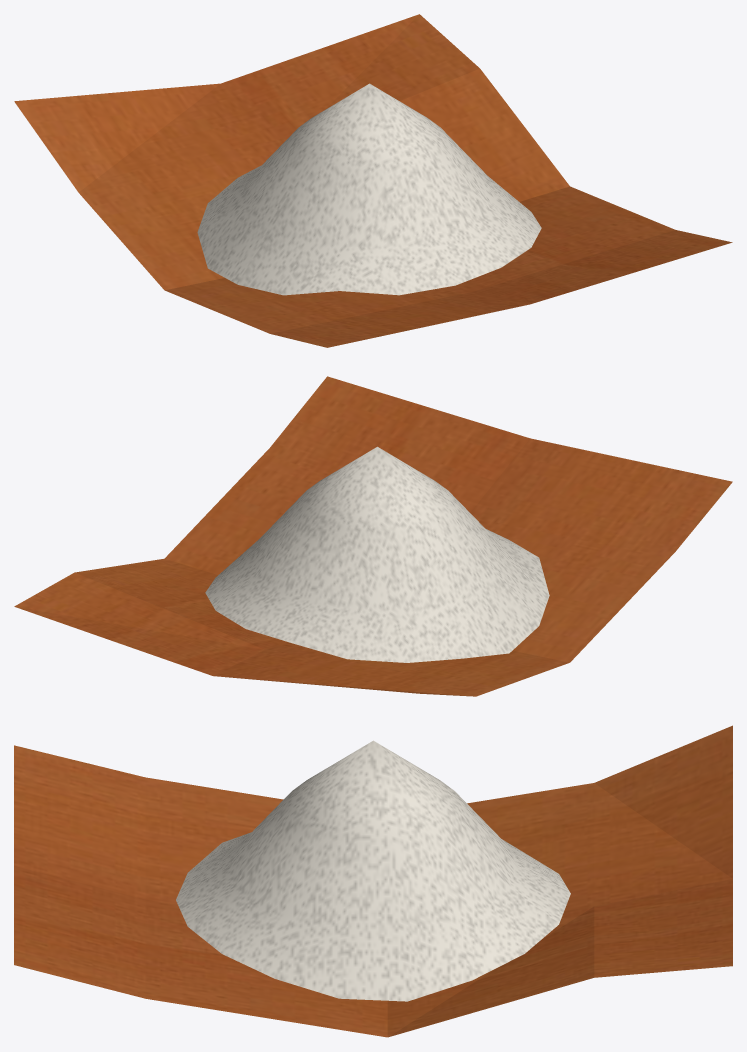
File: powder.gltf
3 renders of one model, top to bottom at view 1: azimuth 30°, elevation 25°; view 2: azimuth 150°, elevation 25°; view 3: azimuth 270°, elevation 25°, orthographic. The views are drawn at different scales.
Parts seen in each view (by area): view 1: paper, Powder; view 2: paper, Powder; view 3: paper, Powder.
Boxes of the visible parts, x1,y1,x2,y2 form: paper: [14, 14, 732, 347]; Powder: [197, 83, 541, 295]; paper: [14, 376, 732, 696]; Powder: [205, 446, 549, 662]; paper: [14, 725, 732, 1037]; Powder: [176, 740, 570, 1001].
Bounding box in the file's own units: 0.8265 × 0.3318 × 1.11.
Materials: 2 (2 with a texture image).
